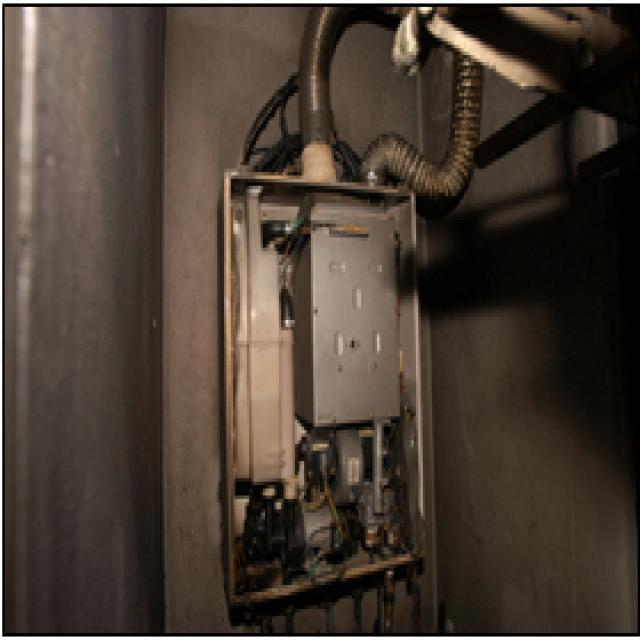Boiler: (191, 116, 479, 628)
